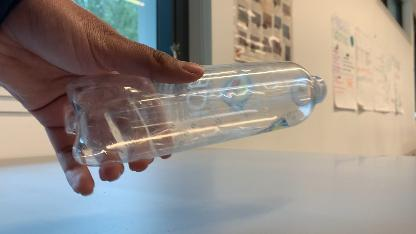Plastic Bottle: (61, 58, 329, 168)
